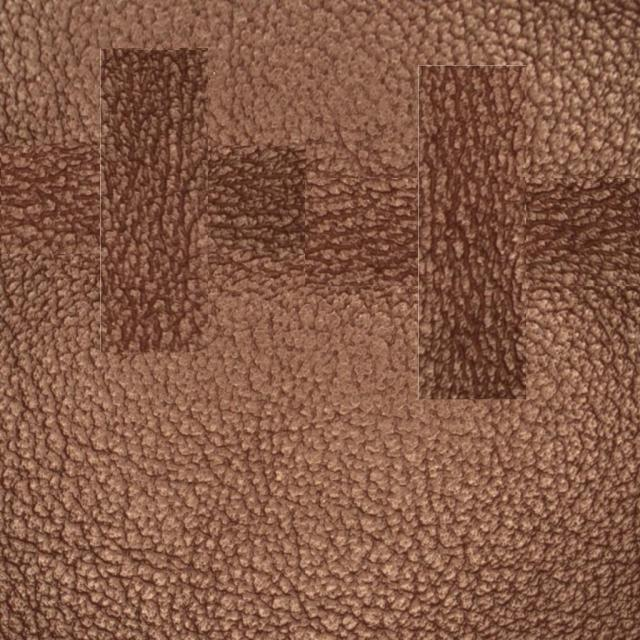Healed Injury: (396, 34, 566, 412), (90, 27, 233, 363)
